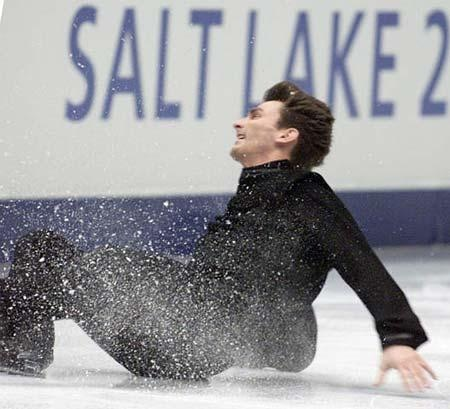falling: (0, 61, 446, 397)
